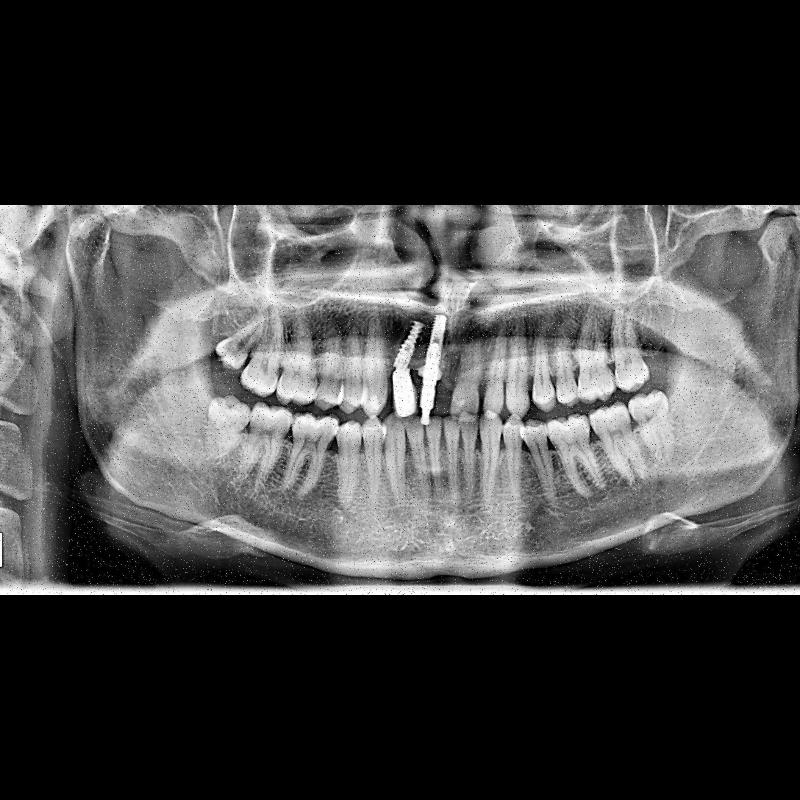NORIS: (392, 319, 424, 369)
